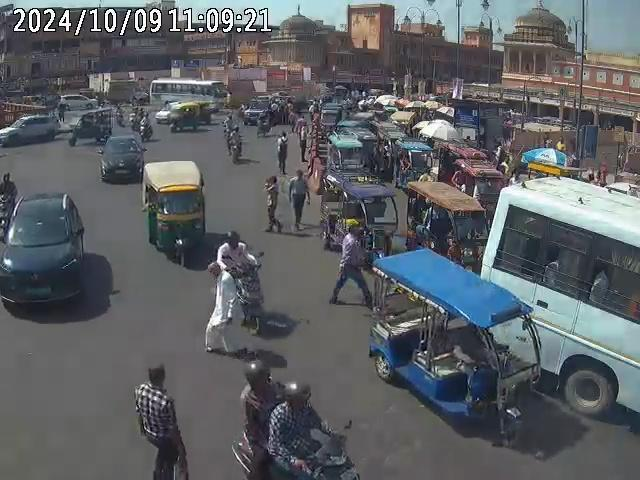auto: (370, 248, 538, 430), (405, 177, 488, 273), (141, 159, 209, 266), (320, 170, 404, 254), (325, 131, 365, 183), (167, 100, 215, 133)
bus: (477, 174, 639, 431), (147, 77, 230, 109)
car: (0, 192, 87, 312), (203, 229, 263, 359), (0, 109, 60, 148), (97, 135, 145, 183), (242, 94, 283, 127), (58, 94, 98, 111)
helmet: (280, 376, 314, 412), (241, 358, 273, 388), (224, 229, 242, 250)
license_plate: (18, 284, 54, 298)
motorbike: (0, 185, 16, 224), (134, 111, 153, 141)
motorbike-rider: (232, 356, 358, 478), (225, 126, 245, 163)
person: (132, 363, 188, 479), (330, 223, 374, 308), (288, 169, 310, 231), (263, 172, 280, 234), (590, 262, 610, 301), (274, 130, 288, 174), (223, 113, 239, 137)
